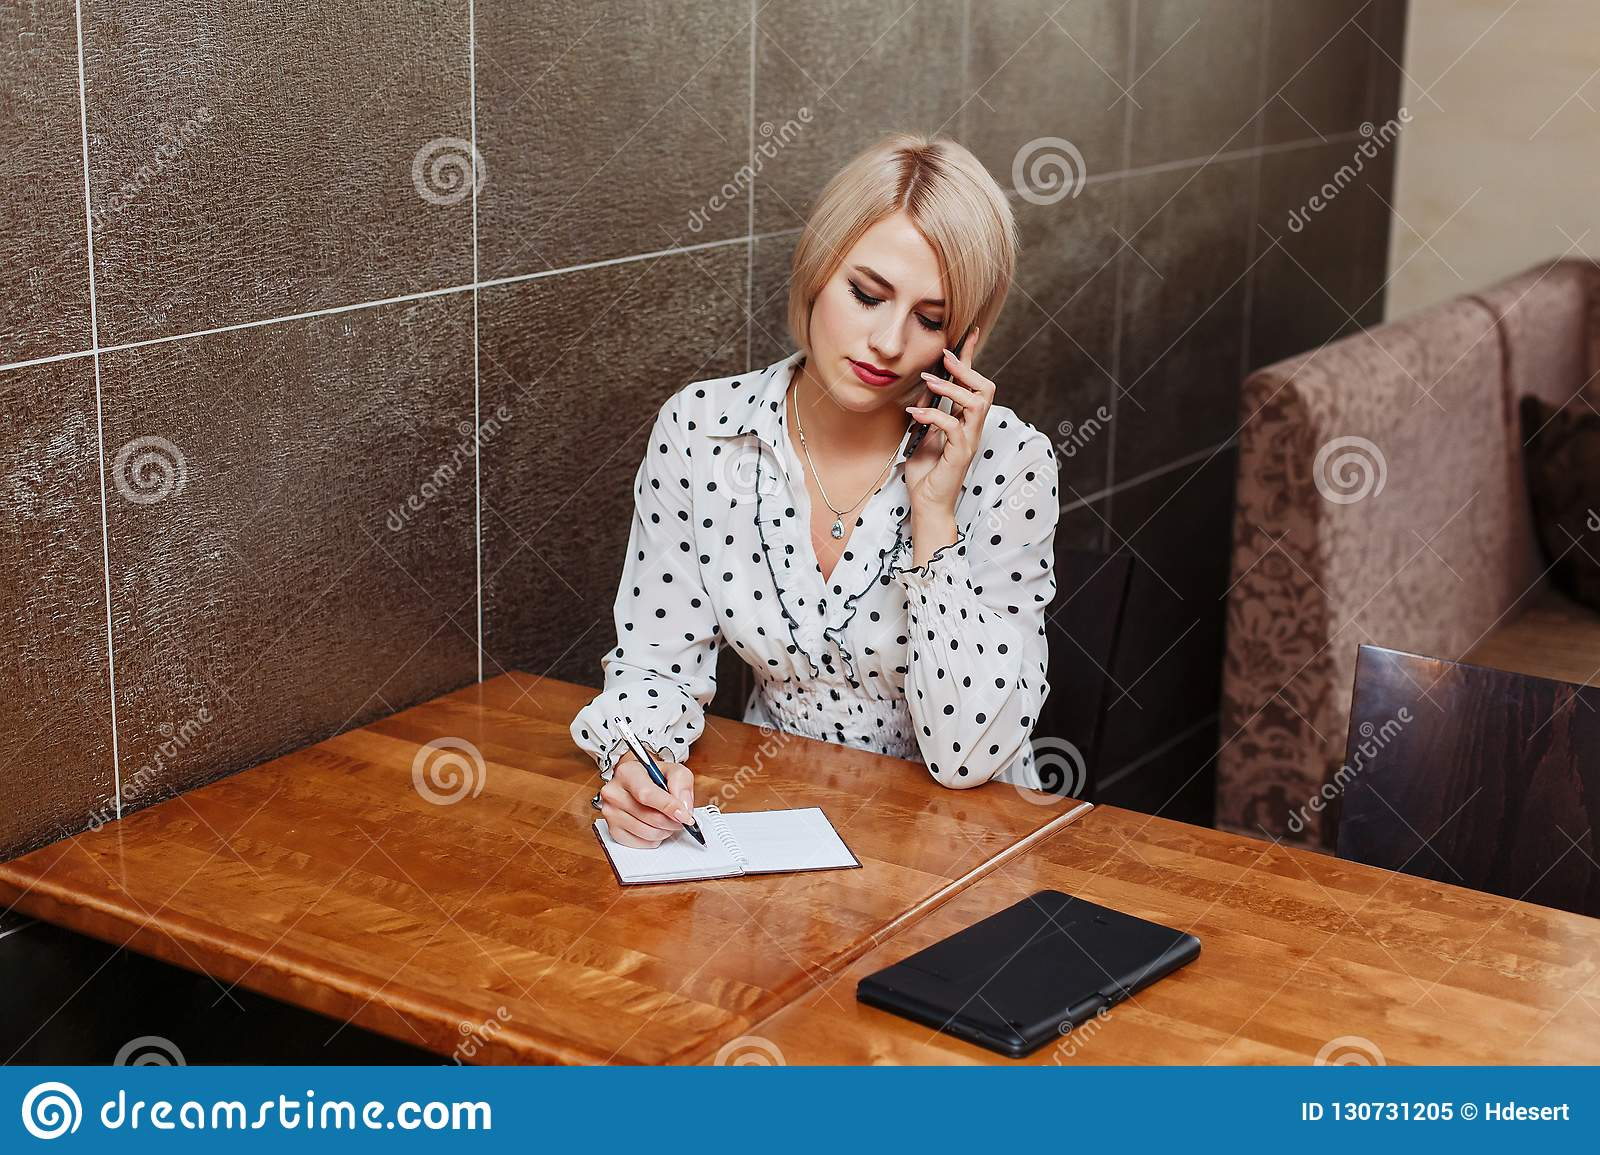phone: (901, 317, 976, 469)
talk: (820, 260, 998, 522)
